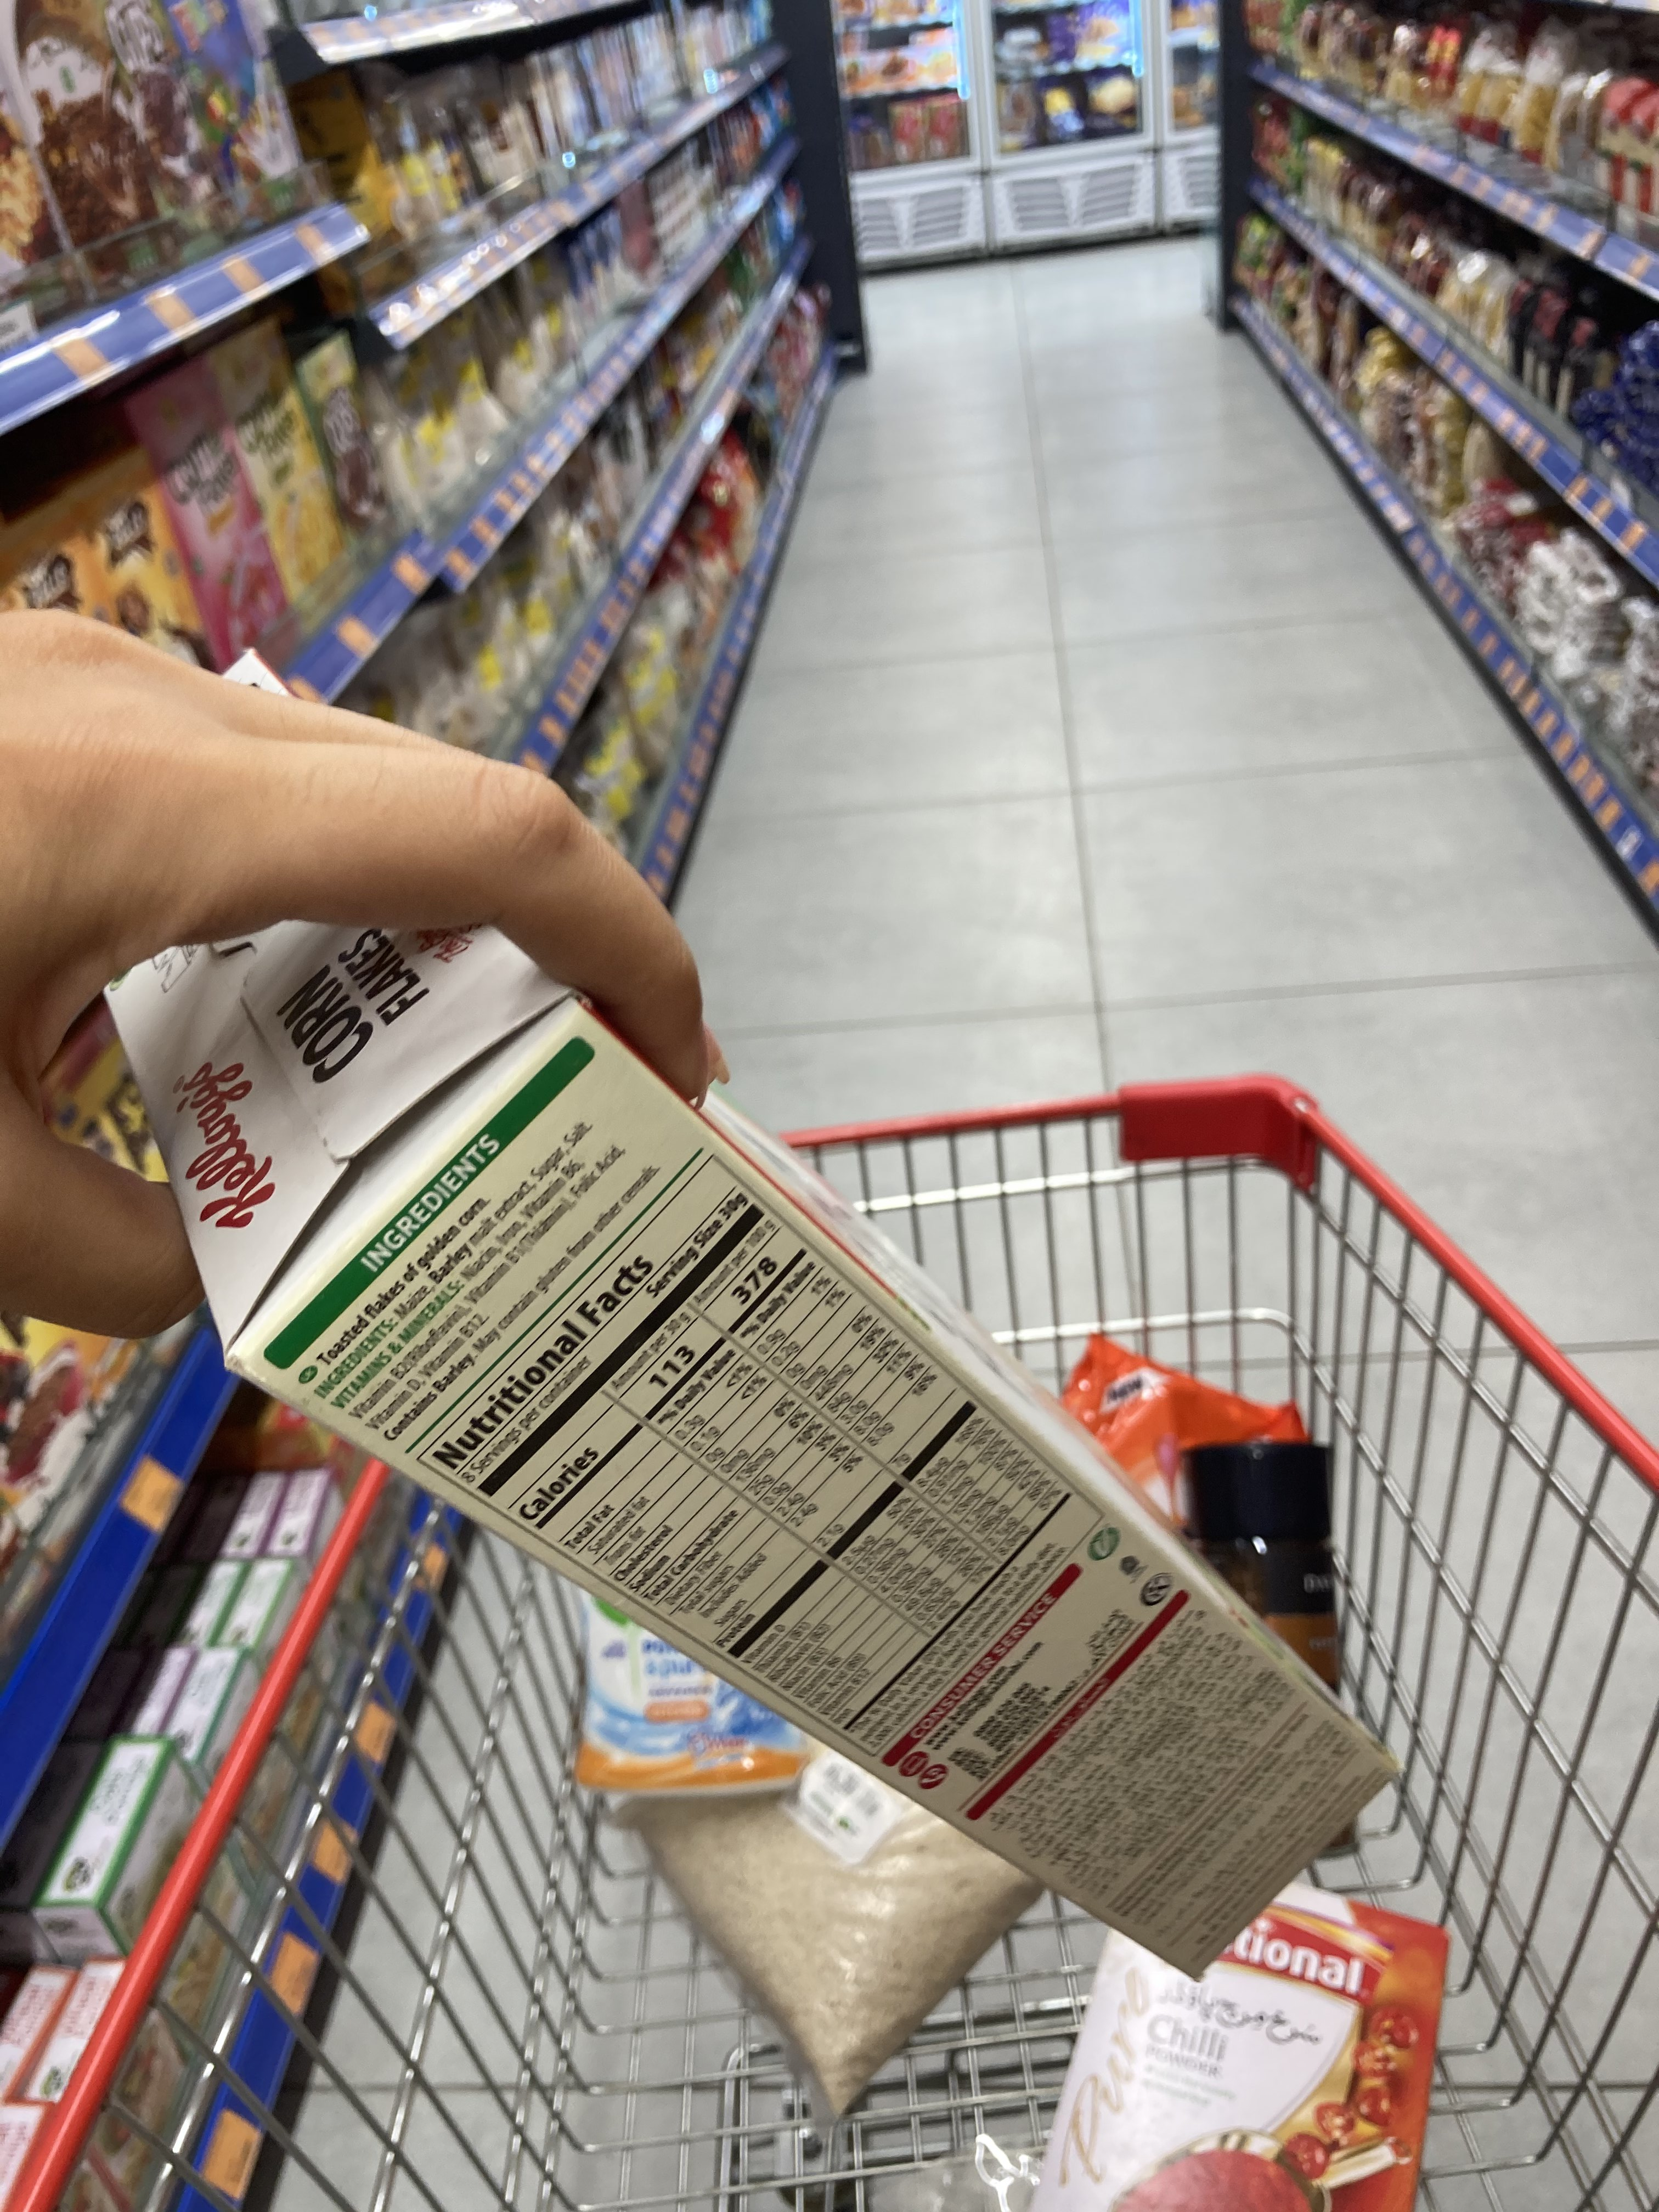Kellogg's Corn Flakes: (91, 667, 1398, 1977)
